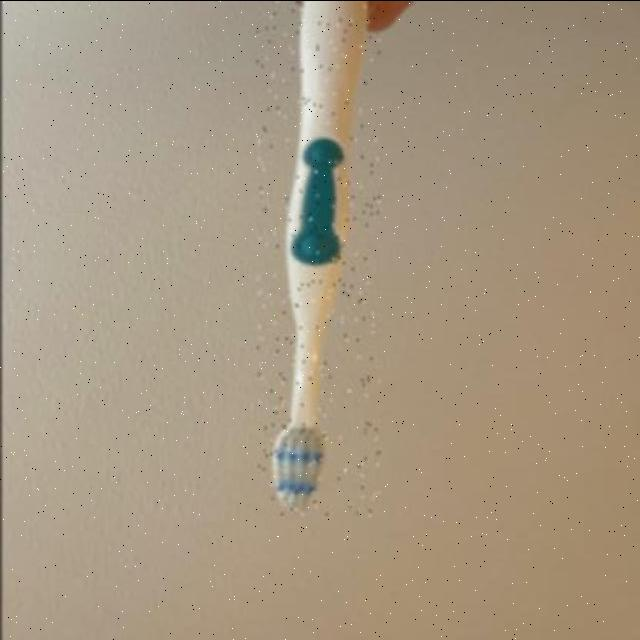toothbrush: (255, 0, 378, 516)
